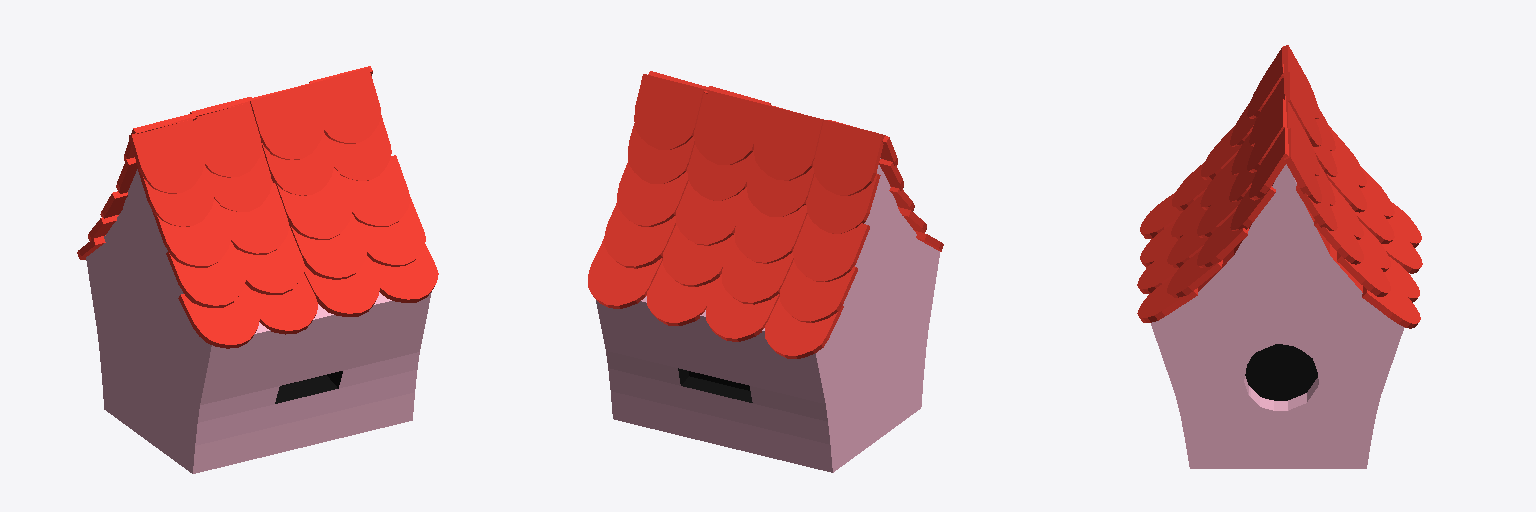
Rendered from model-triangulated.obj.
3 views of the same model, side by side, from view 1: azimuth 30°, elevation 25°; view 2: azimuth 150°, elevation 25°; view 3: azimuth 270°, elevation 25° (orthographic).
Parts seen in each view (by area): view 1: group[number redacted], group[number redacted], group[number redacted], group[number redacted], group[number redacted], group[number redacted], group[number redacted], group[number redacted], group[number redacted], group[number redacted], group[number redacted], group[number redacted] (+9 smaller); view 2: group[number redacted], group[number redacted], group[number redacted], group[number redacted], group[number redacted], group[number redacted], group[number redacted], group[number redacted], group[number redacted], group[number redacted], group[number redacted], group[number redacted] (+9 smaller); view 3: group[number redacted], group[number redacted], group[number redacted], group[number redacted], group[number redacted], group[number redacted], group[number redacted], group[number redacted], group[number redacted], group[number redacted], group[number redacted], group[number redacted] (+24 smaller).
Boxes of the visible parts, <box> form: group[number redacted]: <box>86,169,431,473</box>; group[number redacted]: <box>129,118,204,193</box>; group[number redacted]: <box>250,84,323,159</box>; group[number redacted]: <box>312,67,380,143</box>; group[number redacted]: <box>193,101,261,177</box>; group[number redacted]: <box>276,168,351,239</box>; group[number redacted]: <box>340,155,410,226</box>; group[number redacted]: <box>152,199,230,267</box>; group[number redacted]: <box>166,241,245,307</box>; group[number redacted]: <box>178,286,259,348</box>; group[number redacted]: <box>220,183,288,254</box>; group[number redacted]: <box>289,214,366,279</box>; group[number redacted]: <box>596,158,939,472</box>; group[number redacted]: <box>813,120,885,195</box>; group[number redacted]: <box>753,104,823,180</box>; group[number redacted]: <box>634,74,704,149</box>; group[number redacted]: <box>694,89,761,164</box>; group[number redacted]: <box>793,214,869,281</box>; group[number redacted]: <box>735,193,807,263</box>; group[number redacted]: <box>676,181,746,245</box>; group[number redacted]: <box>617,160,688,226</box>; group[number redacted]: <box>780,260,857,322</box>; group[number redacted]: <box>604,202,675,268</box>; group[number redacted]: <box>588,239,662,308</box>; group[number redacted]: <box>1151,164,1404,468</box>; group[number redacted]: <box>1362,281,1420,328</box>; group[number redacted]: <box>1249,128,1288,200</box>; group[number redacted]: <box>1197,211,1248,267</box>; group[number redacted]: <box>1284,128,1321,203</box>; group[number redacted]: <box>1167,250,1222,297</box>; group[number redacted]: <box>1337,246,1390,296</box>; group[number redacted]: <box>1137,278,1197,322</box>; group[number redacted]: <box>1284,72,1321,146</box>; group[number redacted]: <box>1247,99,1287,172</box>; group[number redacted]: <box>1314,207,1363,264</box>; group[number redacted]: <box>1197,181,1241,237</box>.
Bounding box in the file's own units: 0.48 × 0.5922 × 0.4828.